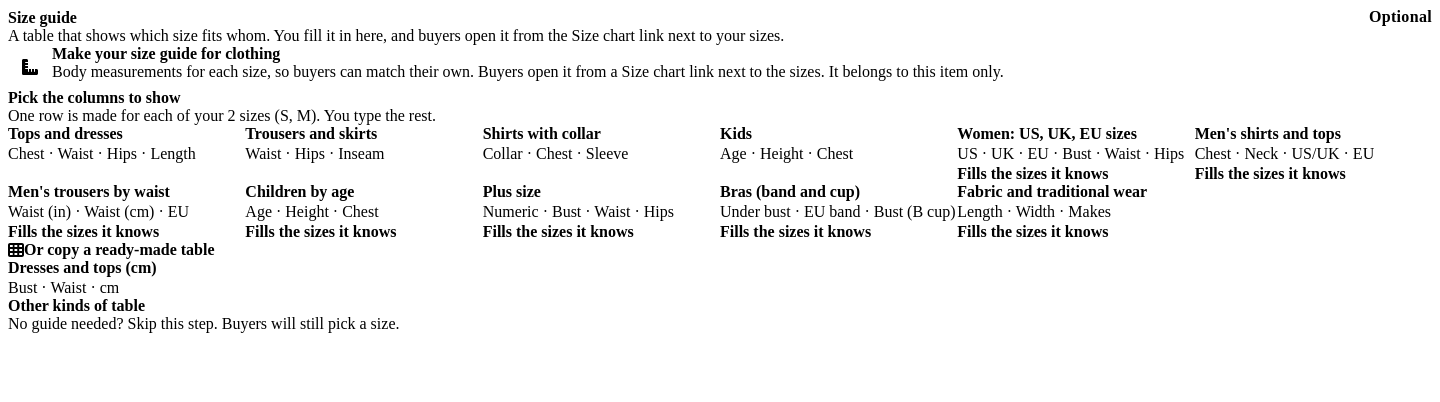
Scenario: Size guide step (seller) › clothing: pick the measurements; a row per size appears and typing fills the form
Click the button "Tops and dresses Chest · Waist · Hips · Length".
click(127, 144)  # box [8, 125, 245, 163]
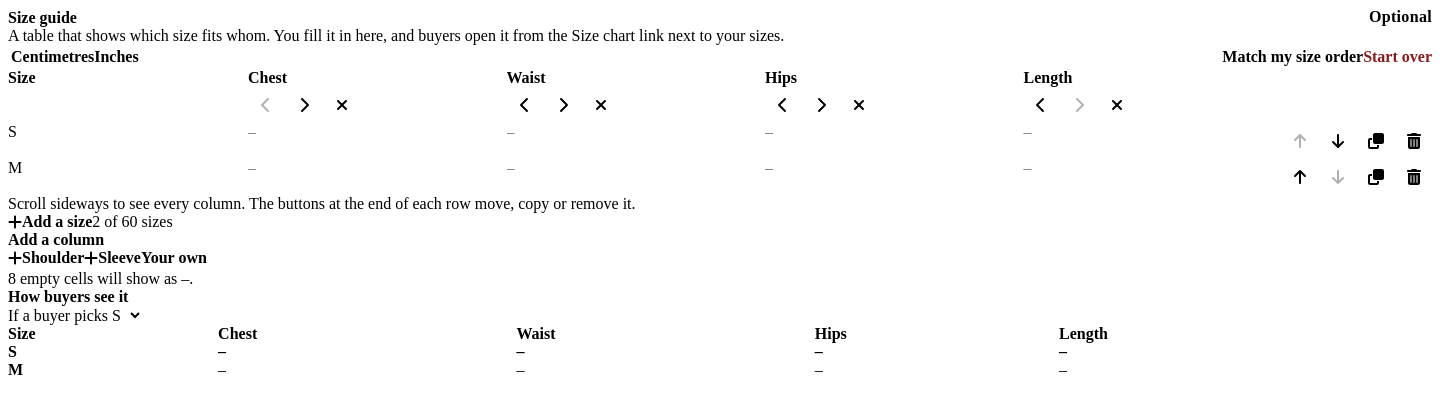
Type "86" into the field named "Chest for S".
click(300, 132); type("86")  # box [248, 123, 352, 141]
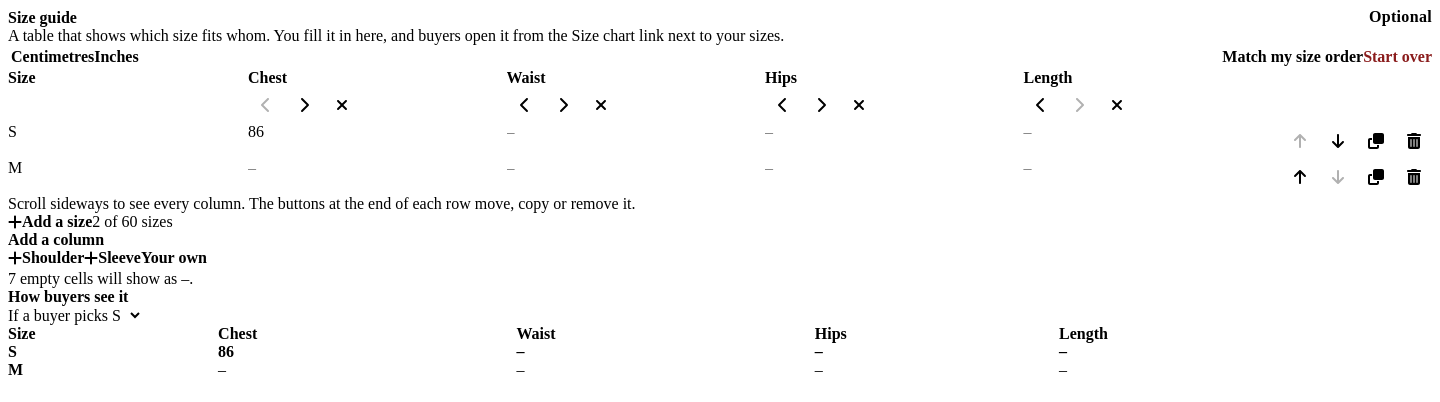
Type "92-96" into the field named "Chest for M".
click(300, 168); type("92-96")  # box [248, 159, 352, 177]
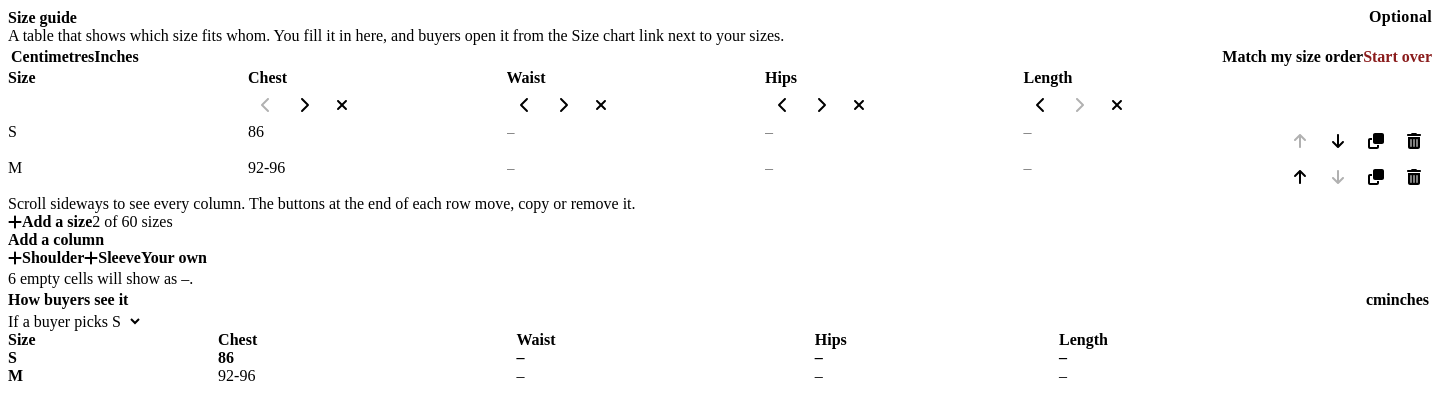
Expected: the text "92-96" is shown, [218, 367, 516, 385]
